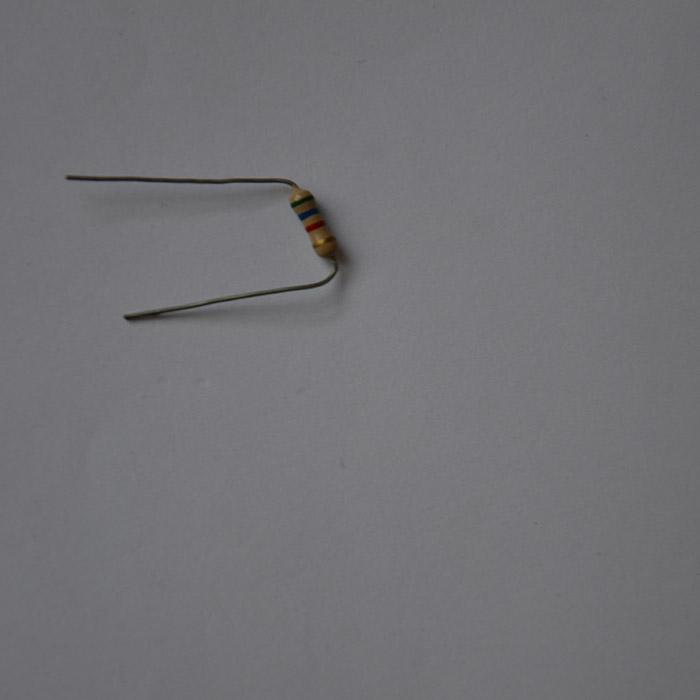resistor: (289, 186, 337, 257)
